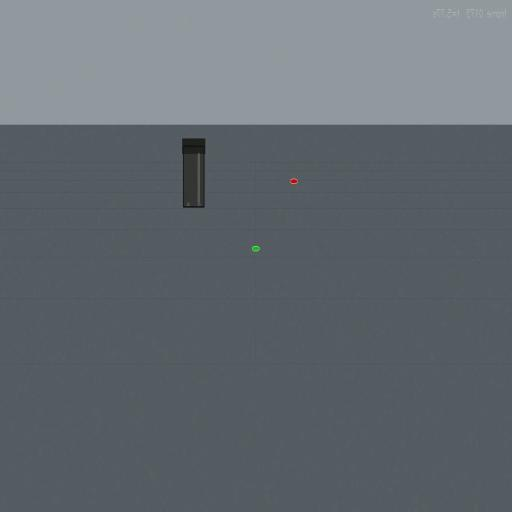bin: (182, 138, 206, 208)
